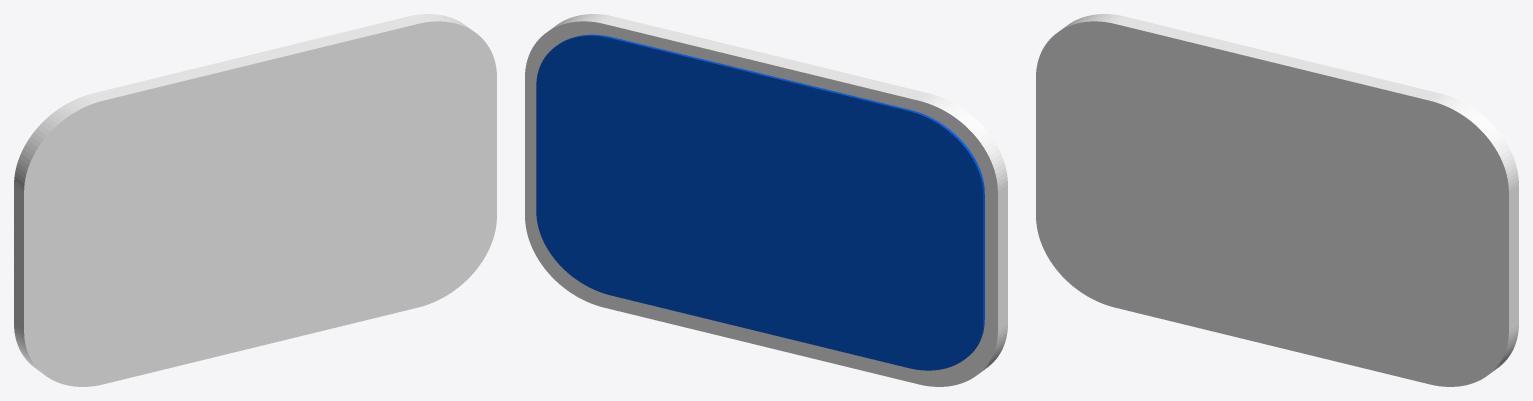
Rendered from heads-up-card.glb.
The picture shows the model from 3 angles, left to right: view 1: azimuth 30°, elevation 25°; view 2: azimuth 150°, elevation 25°; view 3: azimuth 330°, elevation 25°; orthographic projection.
Visible parts, largest first — view 1: wrapper; view 2: cardText, wrapper; view 3: wrapper.
Boxes of the visible parts, box(x1,y1,x2,y2) form: wrapper: box(14, 14, 496, 386); cardText: box(536, 34, 984, 370); wrapper: box(525, 14, 1007, 386); wrapper: box(1036, 14, 1518, 386).
Size of the model in its own units: 1.91 by 1.1 by 0.0827.
